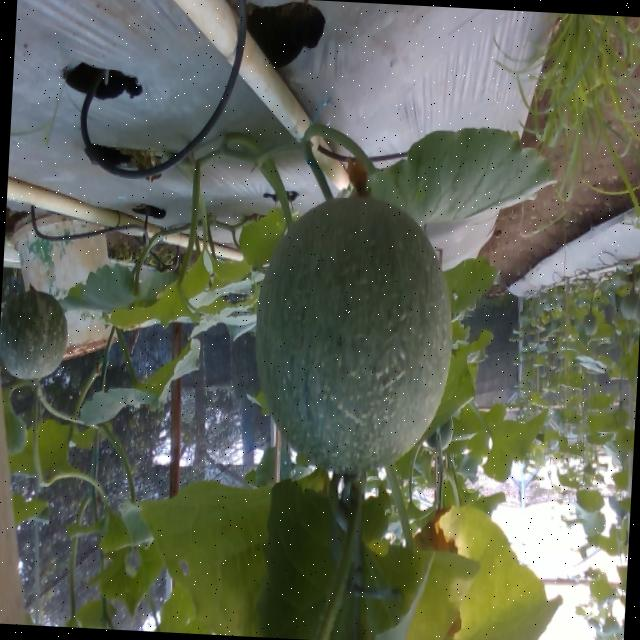melon: (255, 194, 451, 473)
